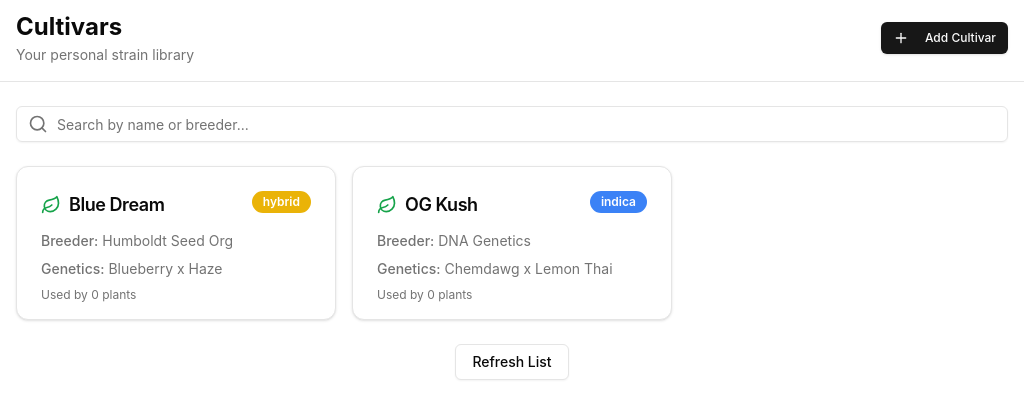
Scenario: CultivarsListPage › shows no results message when search has no matches
The image size is (1024, 411).
Step 1. Type "nonexistent" into the search field with placeholder "Search by name or breeder..." → point(512, 124), box top-left (16, 106), bottom-right (1008, 142)
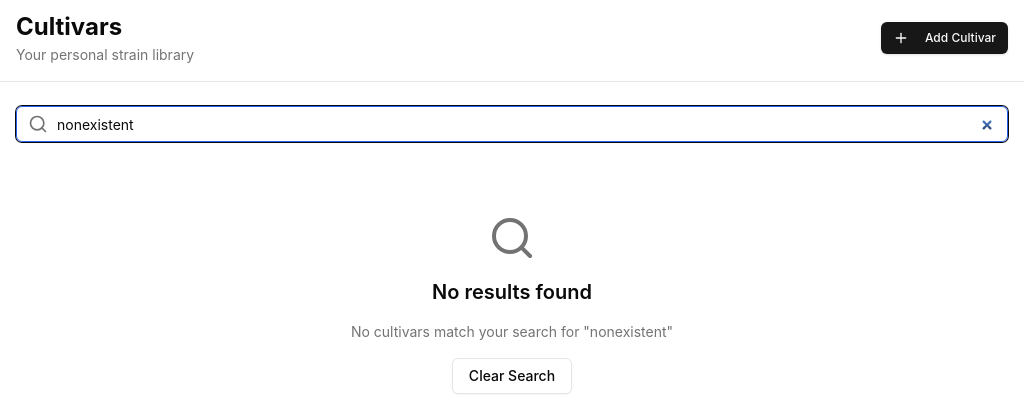
Check: the heading "No results found" is shown, box top-left (432, 278), bottom-right (592, 306)
Check: the button "Clear Search" is shown, box top-left (452, 358), bottom-right (572, 394)
